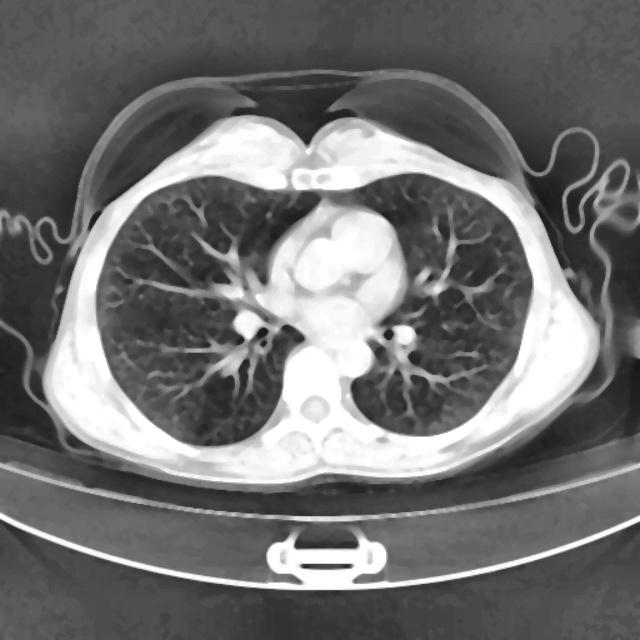covid: (37, 77, 603, 493)
